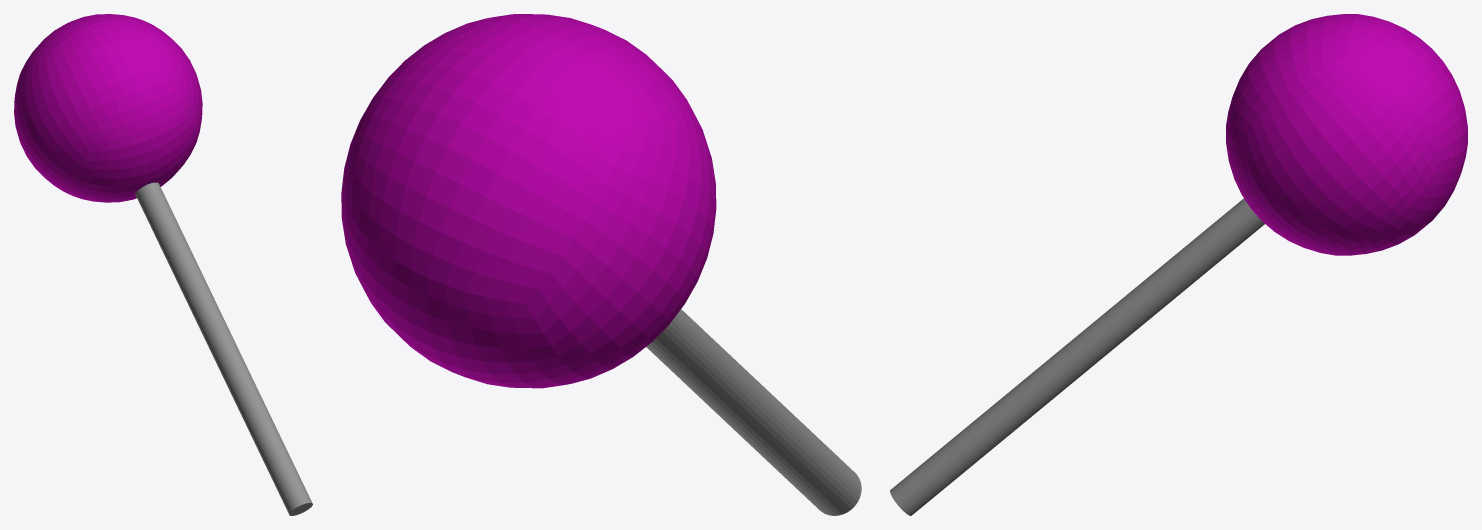
The model's file is stecknadel Vereinigtes Königreich.glb.
3 renders of one model, left to right at view 1: azimuth 30°, elevation 25°; view 2: azimuth 150°, elevation 25°; view 3: azimuth 270°, elevation 25°, orthographic. The views are drawn at different scales.
Parts seen in each view (by area): view 1: Zylinder; view 2: Zylinder; view 3: Zylinder.
Boxes of the visible parts, x1,y1,x2,y2 form: Zylinder: (14, 14, 312, 515); Zylinder: (341, 14, 861, 515); Zylinder: (890, 14, 1467, 515).
Size of the model in its own units: 0.091 by 0.1977 by 0.2169.
